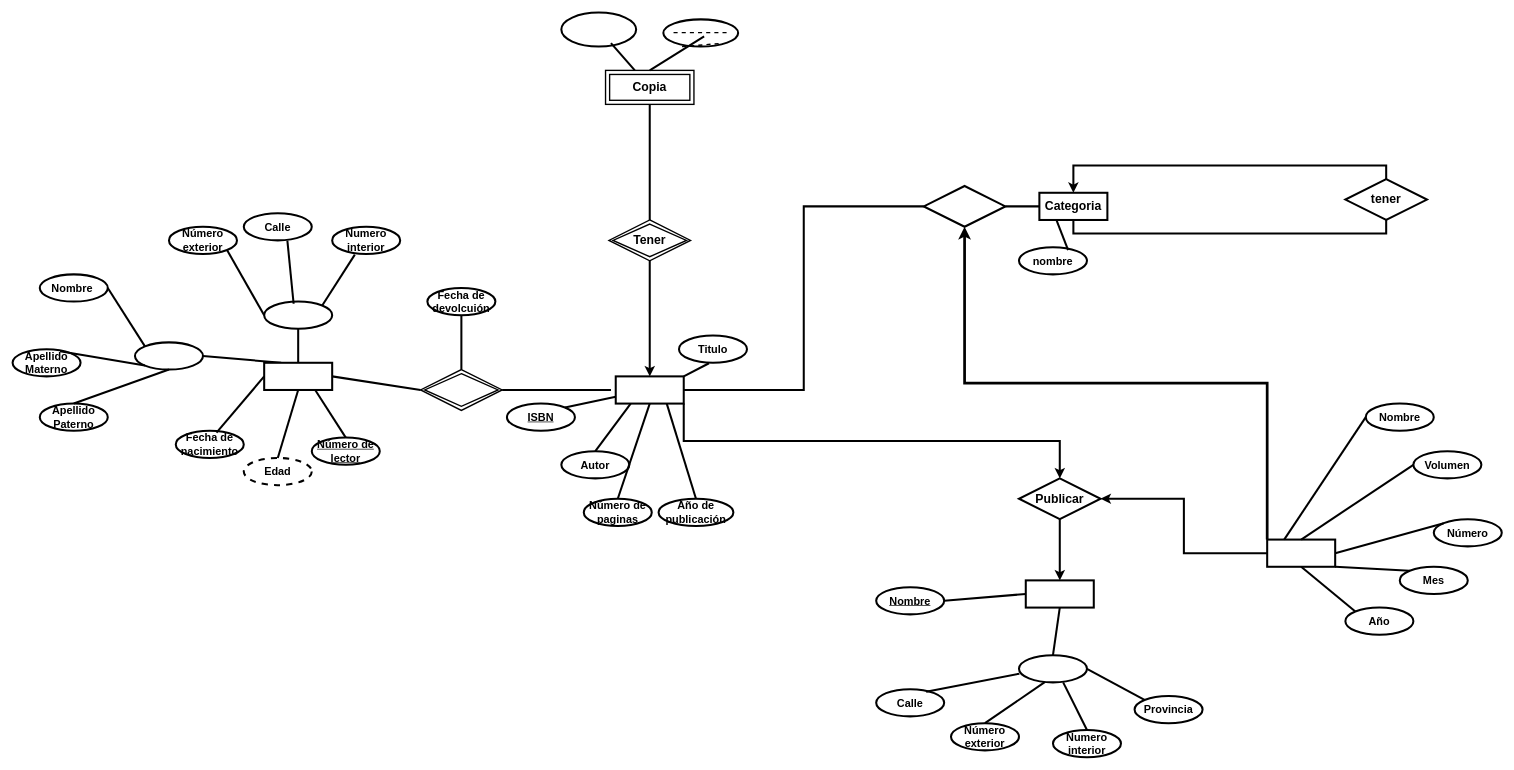
This 1514x770 diagram has some shape labels left out. The shapes that lost their labels are listed below. From the top down, each one's box as (x1, y1, x2, y2) in pixels, then its label:
(560, 11, 637, 47): Ubicación en estante
(662, 18, 739, 47): Número de copia
(922, 185, 1006, 227): Asignar
(263, 300, 333, 329): Direccion
(134, 341, 204, 370): Nombre Completo
(263, 361, 333, 391): Lector
(420, 369, 503, 411): Prestar
(614, 375, 684, 404): Libro
(1266, 538, 1336, 567): Revista
(1024, 579, 1094, 608): Editorial
(1018, 654, 1088, 683): Ubicación
